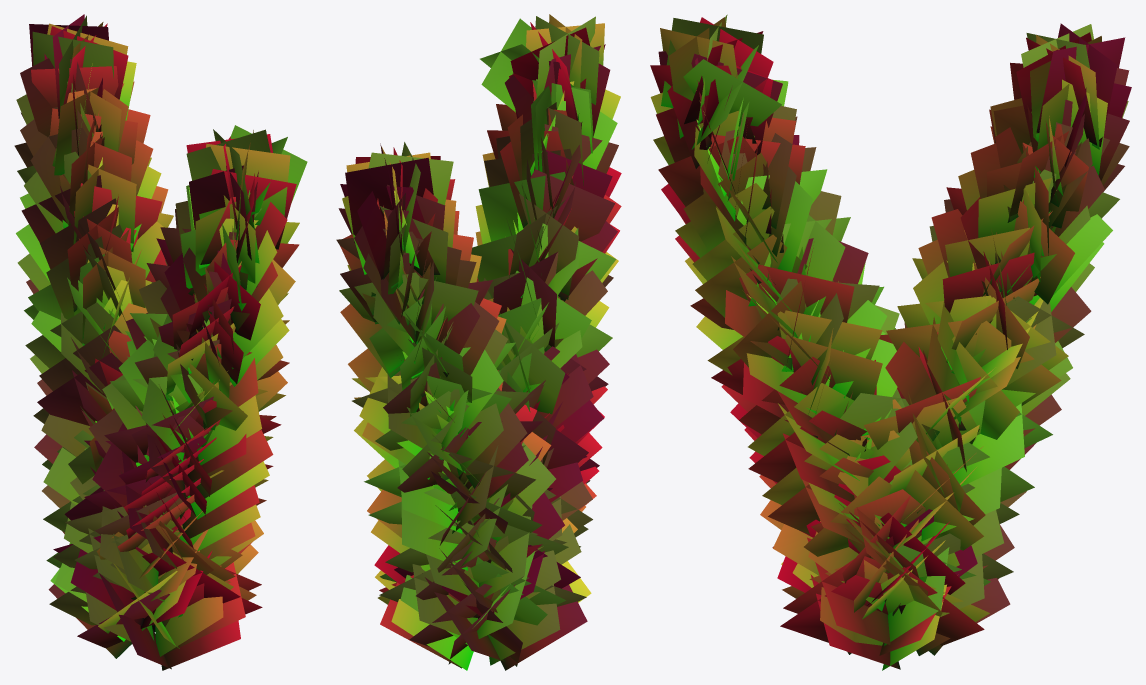
The model's file is URP_P4_Tree_10_LOD_2.fbx.
3 views of the same model, side by side, from view 1: azimuth 30°, elevation 25°; view 2: azimuth 150°, elevation 25°; view 3: azimuth 270°, elevation 25° (orthographic). The views are drawn at different scales.
Parts seen in each view (by area): view 1: Tree_10_LOD_2; view 2: Tree_10_LOD_2; view 3: Tree_10_LOD_2.
Boxes of the visible parts, x1,y1,x2,y2 form: Tree_10_LOD_2: (14,14,307,670); Tree_10_LOD_2: (336,14,621,670); Tree_10_LOD_2: (650,14,1131,670).
Bounding box in the file's own units: 211 × 639 × 441.
